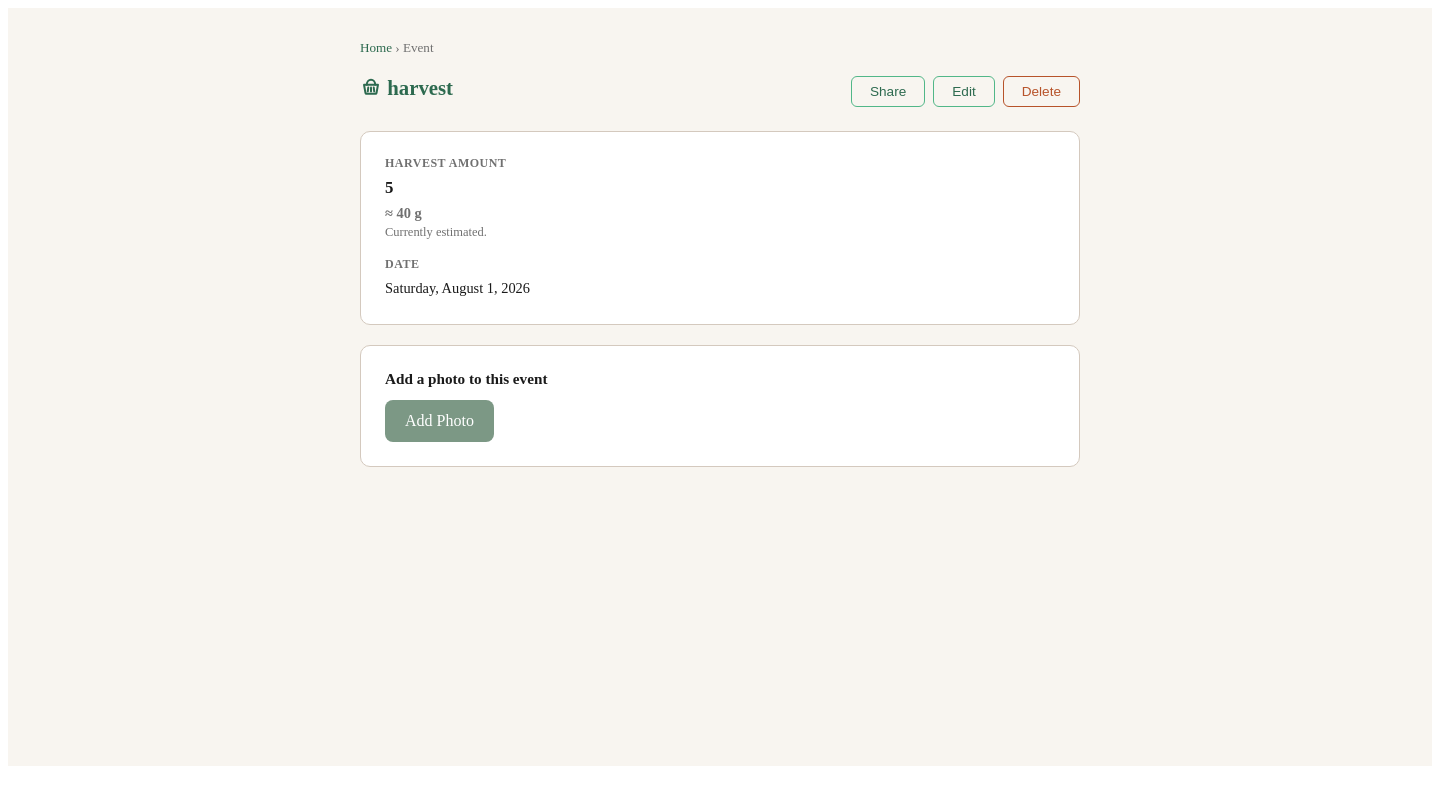
Scenario: EventDetail — weight box seeding › stays BLANK when the stored weight is only an estimate
What coordinates should you click on to do the following:
click the button "Edit"
I would click on:
 (964, 92)
Its box is [933, 76, 995, 107].
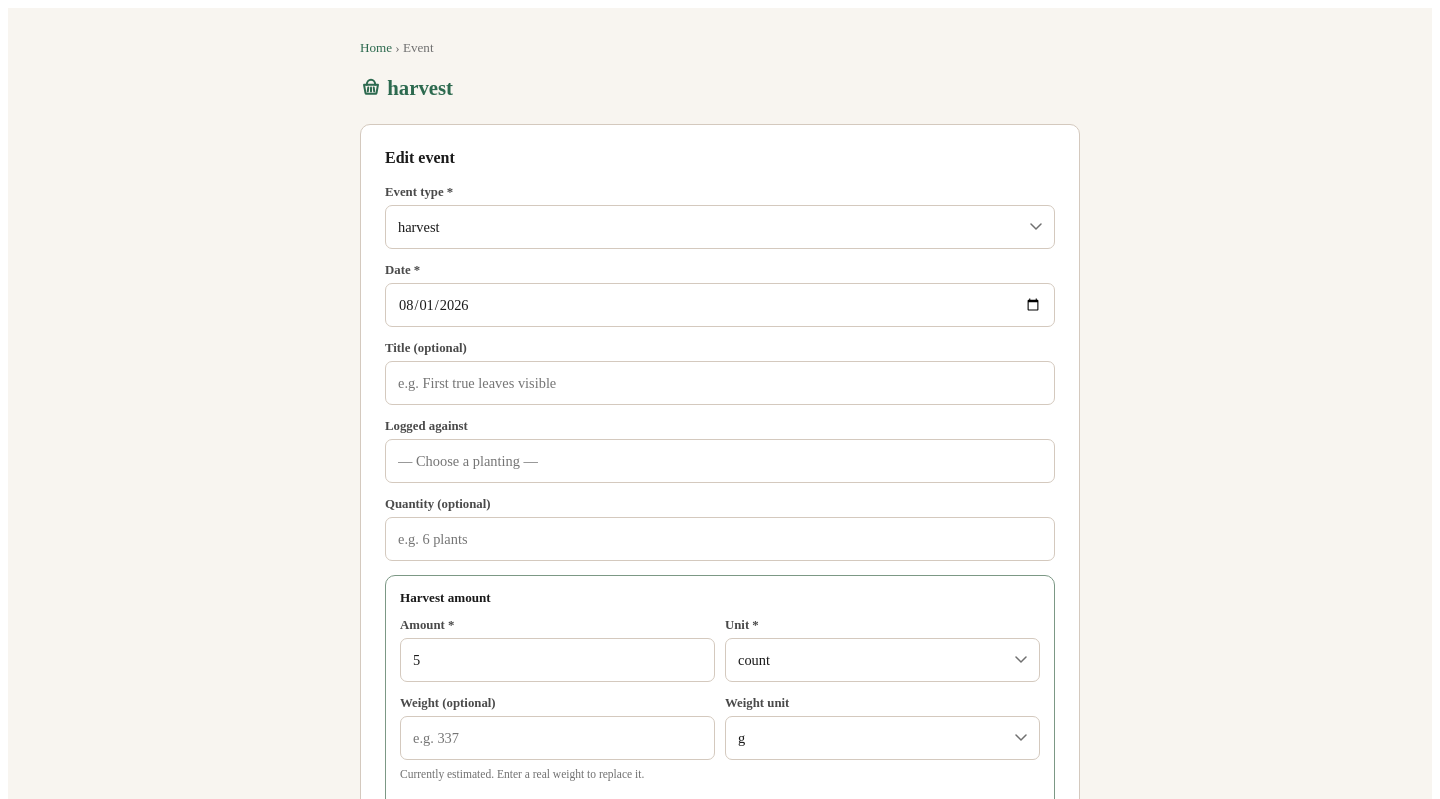
Result: the number field labelled "Weight (optional)" is empty at [400, 716, 715, 760]
Result: the text "Currently estimated. Enter a real weight to replace it." is shown at [400, 768, 644, 780]
